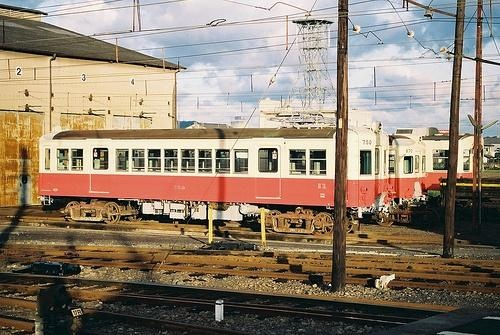train: (36, 126, 393, 237), (381, 134, 431, 225), (425, 131, 486, 199)
